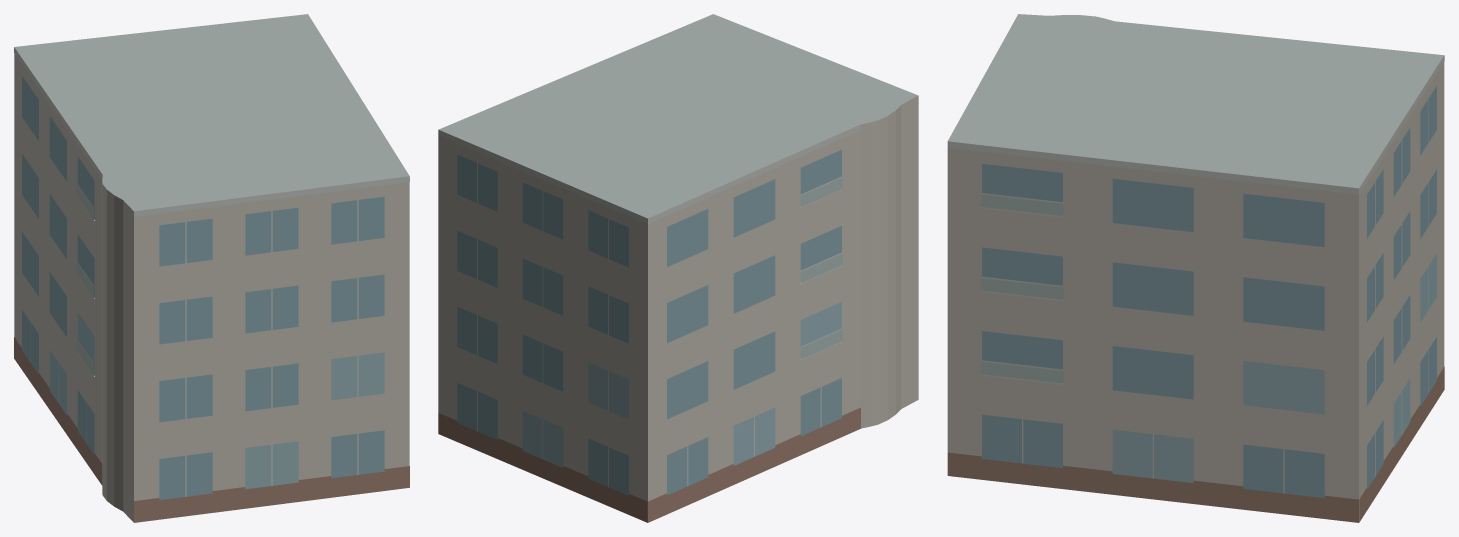
Rendered from survey-upis-32740924.glb.
3 renders of one model, left to right at view 1: azimuth 30°, elevation 25°; view 2: azimuth 150°, elevation 25°; view 3: azimuth 270°, elevation 25°, orthographic. The views are drawn at different scales.
Parts seen in each view (by area): view 1: survey-upis-32740924.tmp; view 2: survey-upis-32740924.tmp; view 3: survey-upis-32740924.tmp.
Part boxes in pixels (x1=…): survey-upis-32740924.tmp: x1=14, y1=14, x2=409, y2=522; survey-upis-32740924.tmp: x1=438, y1=14, x2=918, y2=522; survey-upis-32740924.tmp: x1=947, y1=14, x2=1444, y2=522.
Bounding box in the file's own units: 14.43 × 12.9 × 17.37.
